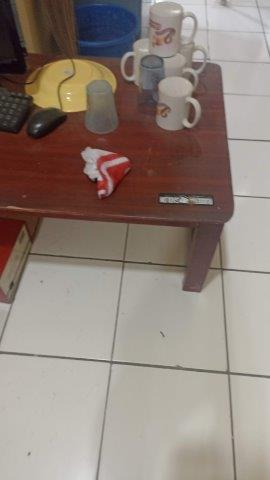plastik: (86, 149, 129, 198)
